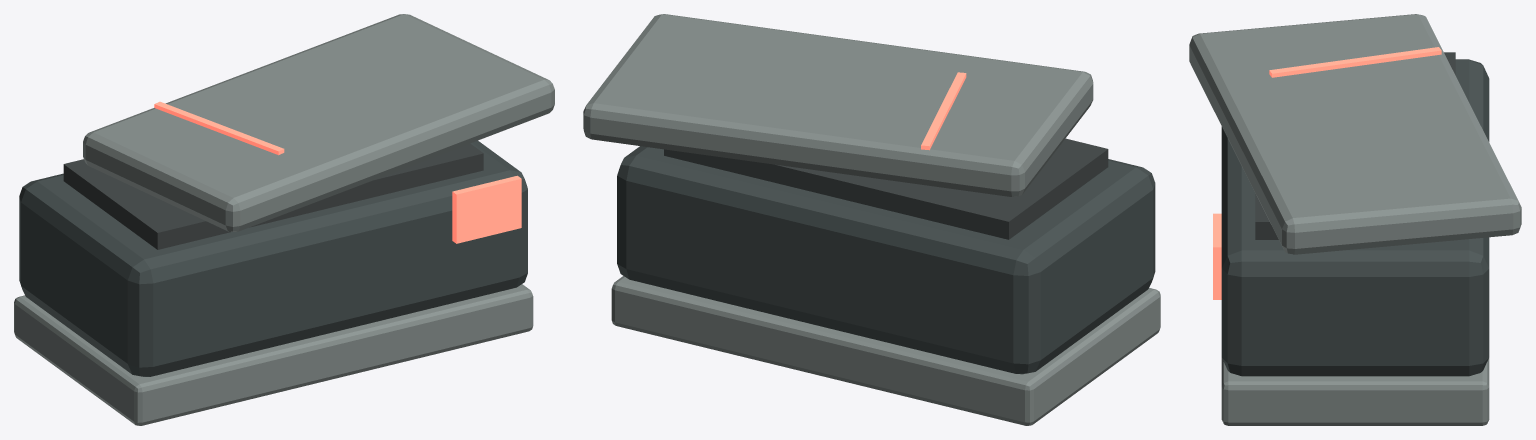
File: prop_cryo_pod_broken.glb
The picture shows the model from 3 angles, left to right: view 1: azimuth 30°, elevation 25°; view 2: azimuth 150°, elevation 25°; view 3: azimuth 270°, elevation 25°; orthographic projection. The views are drawn at different scales.
Visible parts, largest first — view 1: prop_cryo_pod_broken; view 2: prop_cryo_pod_broken; view 3: prop_cryo_pod_broken.
Part boxes in pixels (box(x1,y1,x2,y2)): prop_cryo_pod_broken: box(14, 14, 554, 425); prop_cryo_pod_broken: box(583, 14, 1160, 425); prop_cryo_pod_broken: box(1189, 14, 1521, 425).
Bounding box in the file's own units: 2.48 × 1.17 × 1.49.
